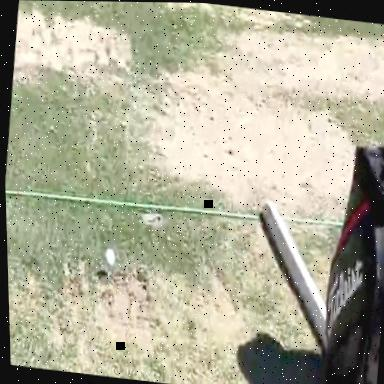ClubHead: (99, 243, 120, 273)
